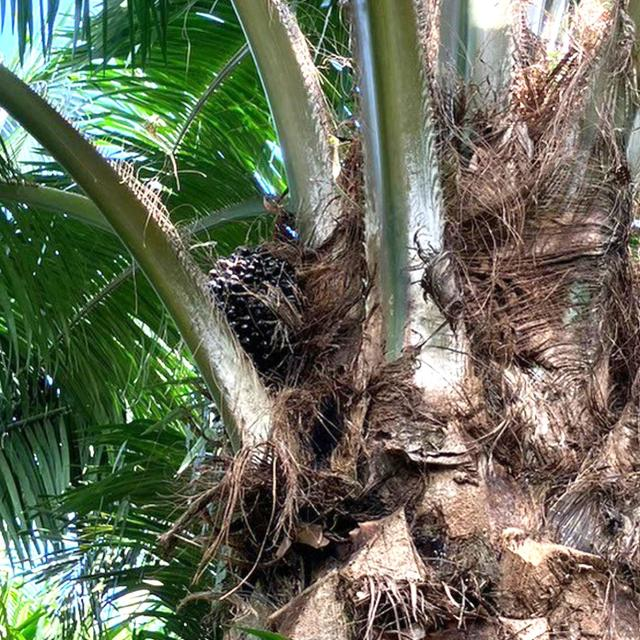unripe: (213, 252, 305, 374)
